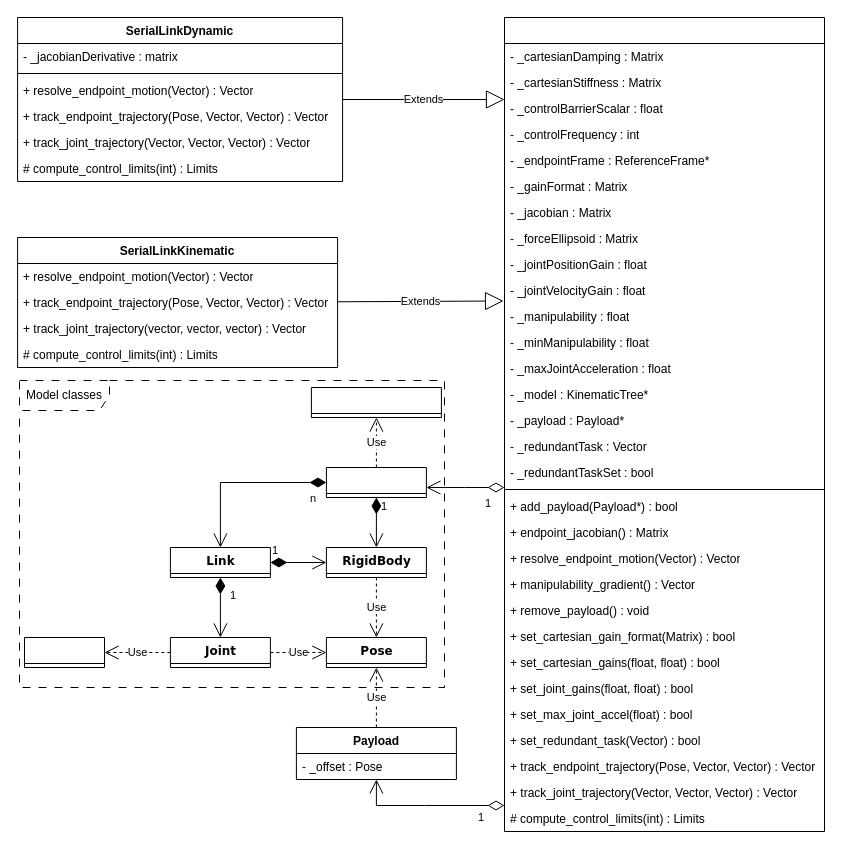
Image size: 842x852. Some labels were removed from this diagram. Here are the shapes that lost their labels. From the top down, the box of each, then its label:
(310, 386, 441, 418): ReferenceFrame
(504, 16, 824, 832): SerialLinkBase
(325, 466, 426, 498): KinematicTree
(24, 636, 104, 668): Limits
